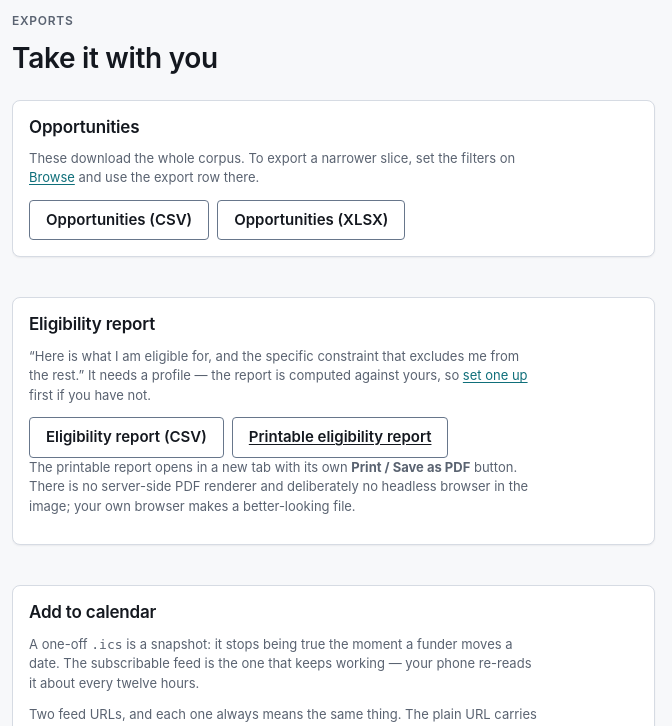
Test: ExportsRoute › what actually lands on disk › saves the file the server named, and says so with the count in it
Click the button "Opportunities (CSV)": x=119, y=220 [29,200,209,240]
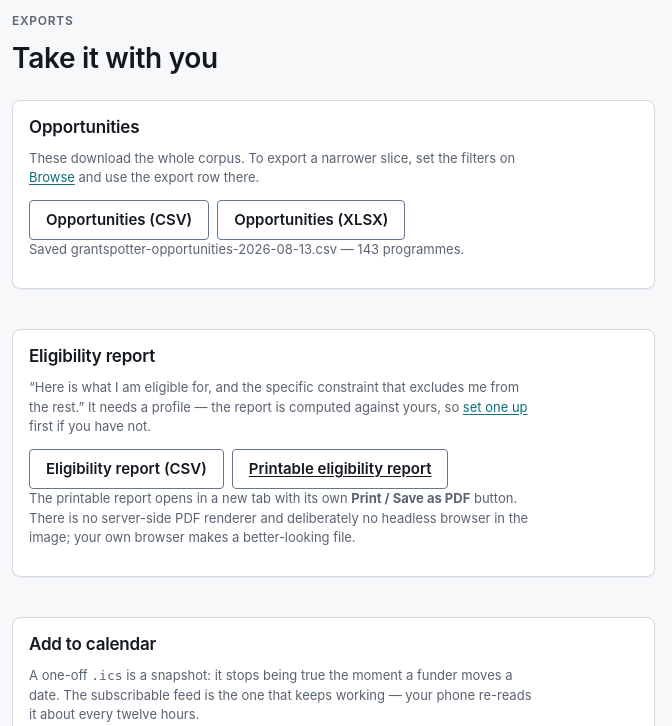
Expected: the text "Saved grantspotter-opportunities-2026-08-13.csv — 143 programmes." is shown, [29,240,538,260]
